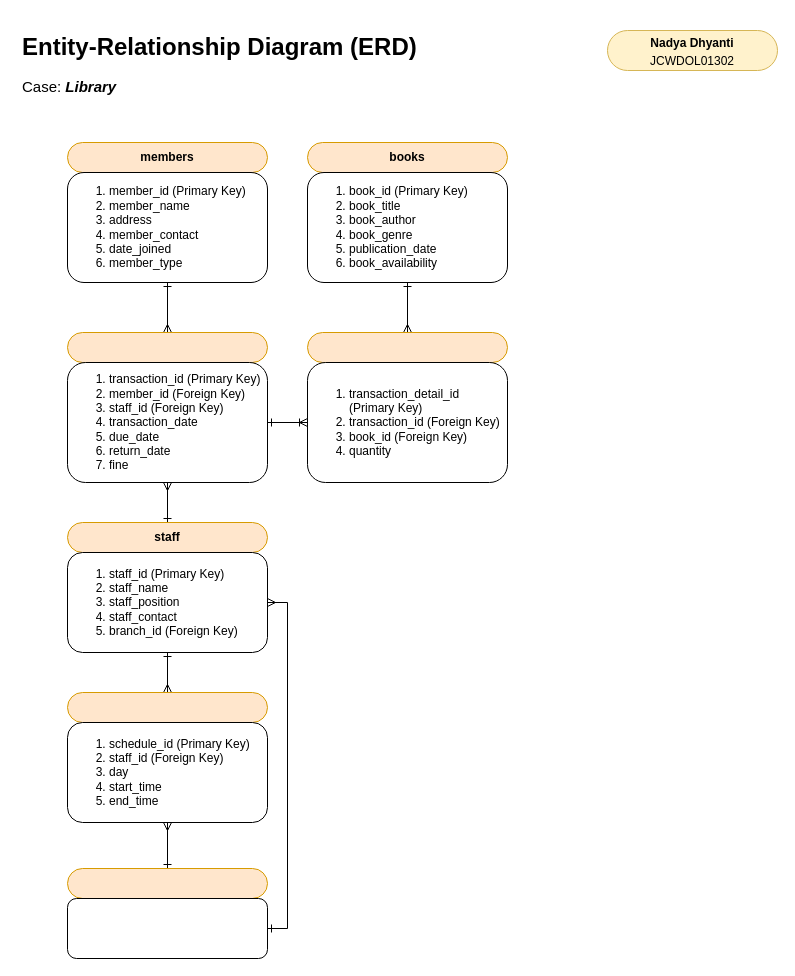
The diagram is 795 pixels wide and 976 high, and some of its shapes have lost their labels. The shapes that lost their labels are listed below. From the top down, each one's centre as x and y in pixels, then its label:
At point 167,347: "transactions".
At point 407,347: "transaction_details".
At point 167,707: "schedules".
At point 167,883: "branches".
At point 167,928: "branch_id (Primary Key) location".
